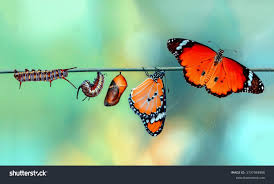Butterfly: (166, 37, 266, 98), (129, 67, 171, 139)
Caterpillar: (10, 63, 76, 89), (77, 71, 105, 104)
